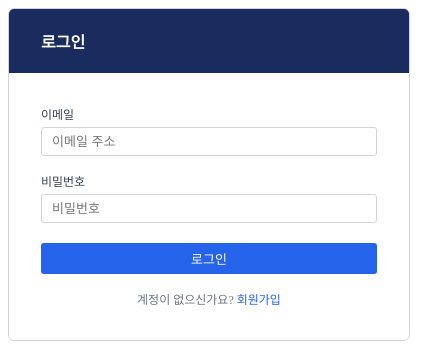
Test case: LoginForm › 로딩 상태일 때 버튼이 비활성화된다
Type "test@example.com" into the field labelled "이메일" at coordinates (209, 142), box [41, 127, 377, 156]
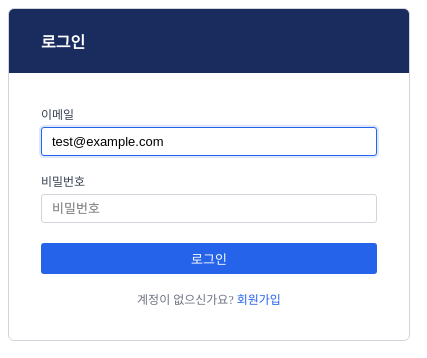
Type "pass1234" into the password field labelled "비밀번호" at coordinates (209, 208), box [41, 194, 377, 223]
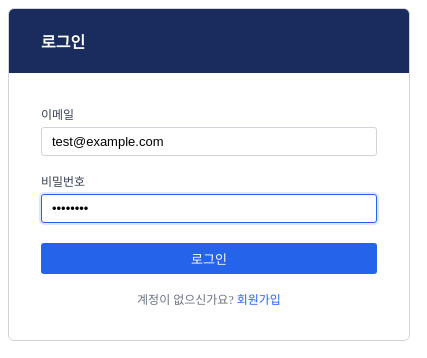
Click the button "로그인" at coordinates (209, 258), box [41, 243, 377, 274]
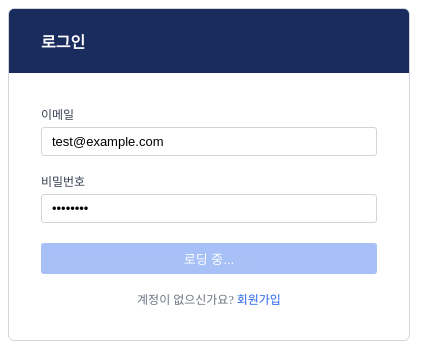
expect the button "로딩 중..." is disabled: met, box [41, 243, 377, 274]
